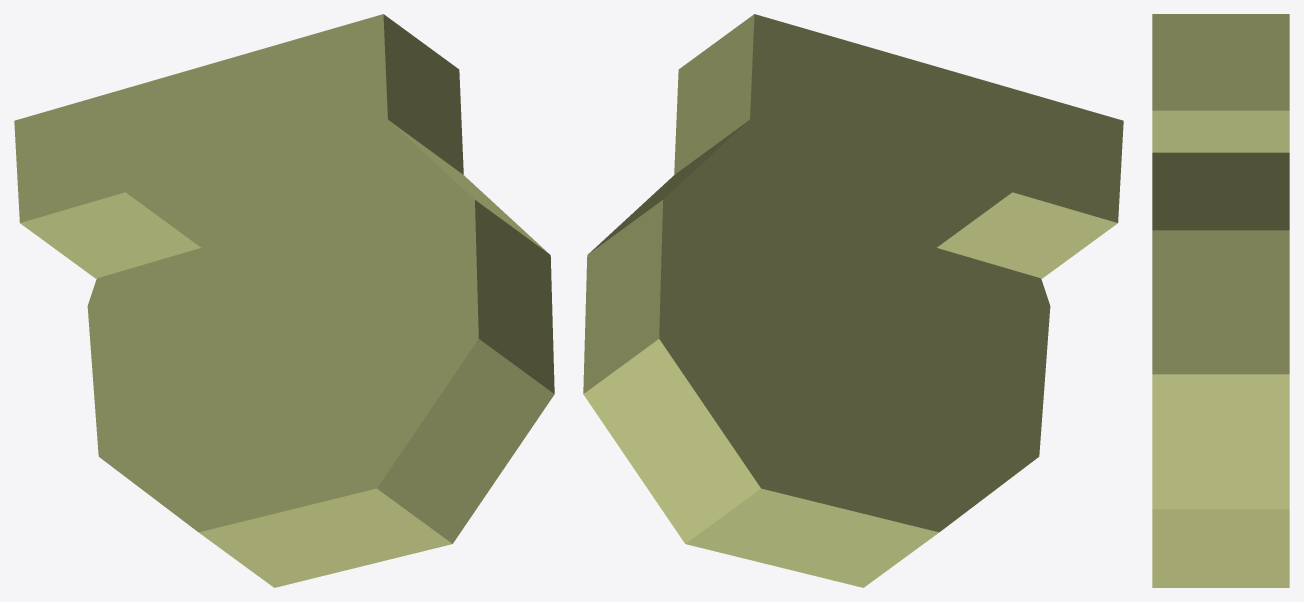
The picture shows the model from 3 angles, left to right: view 1: azimuth 30°, elevation 25°; view 2: azimuth 150°, elevation 25°; view 3: azimuth 270°, elevation 25°; orthographic projection. The views are drawn at different scales.
Visible parts, largest first — view 1: 0_0_3_2_0_1_2_3_0_0; view 2: 0_0_3_2_0_1_2_3_0_0; view 3: 0_0_3_2_0_1_2_3_0_0.
Part boxes in pixels (x1,y1,x2,y2): 0_0_3_2_0_1_2_3_0_0: (14,14,554,587); 0_0_3_2_0_1_2_3_0_0: (583,14,1123,587); 0_0_3_2_0_1_2_3_0_0: (1152,14,1289,587).
Size of the model in its own units: 21.21 by 20.65 by 6.
